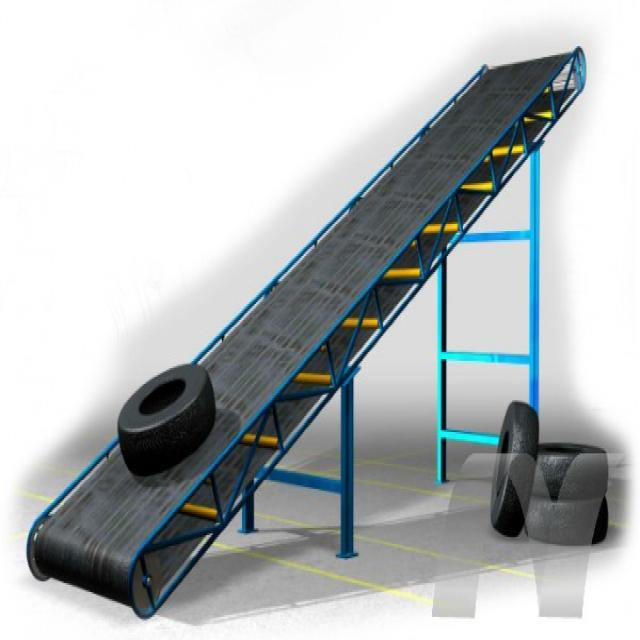conveyor: (24, 31, 588, 621)
